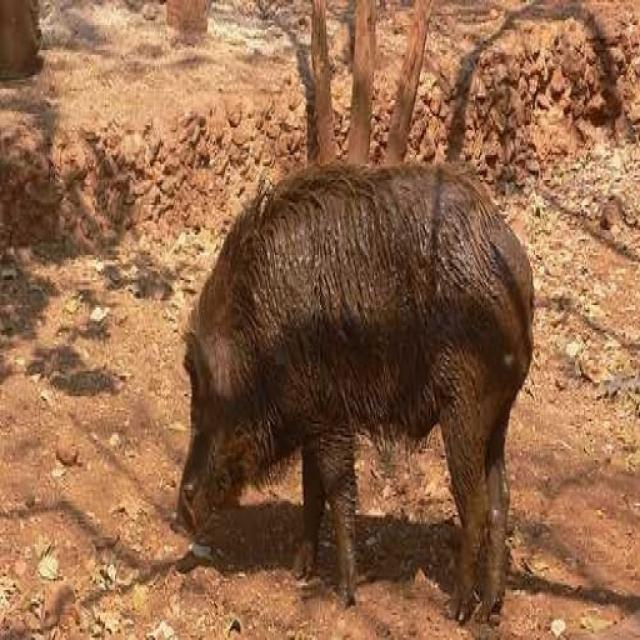pig: (152, 126, 564, 628)
